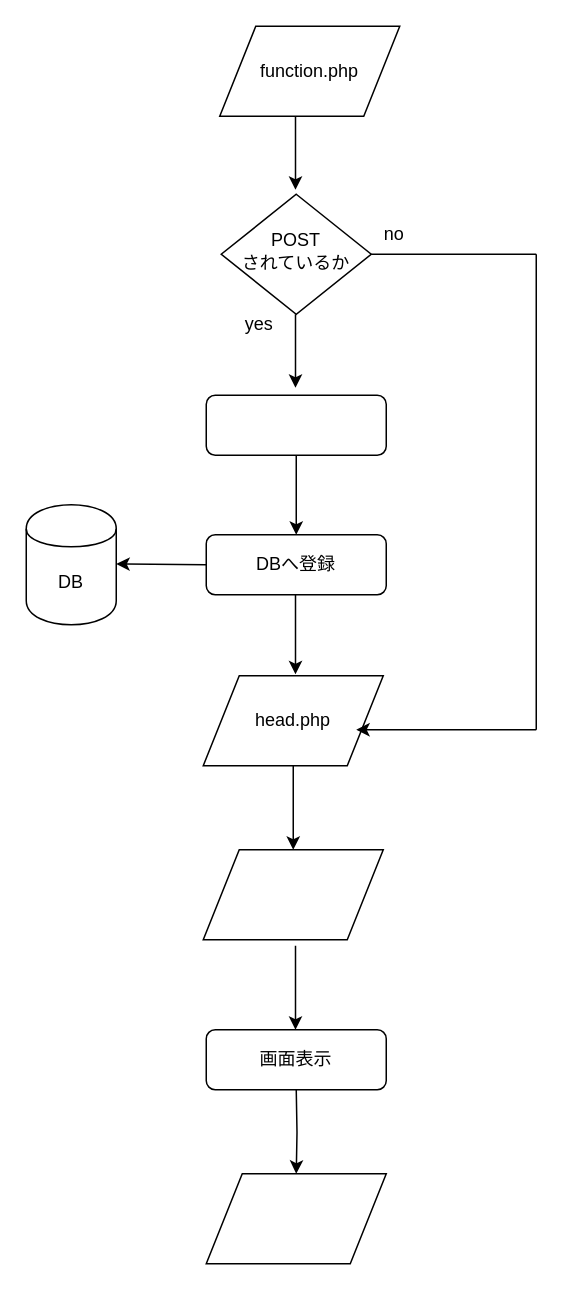
The diagram is 575 pixels wide and 1290 high, and some of its shapes have lost their labels. The centre of each missing label's shape, as x and y in pixels:
footer.php: point (295, 1218)
header.php: point (292, 894)
バリデーションチェック: point (295, 424)
